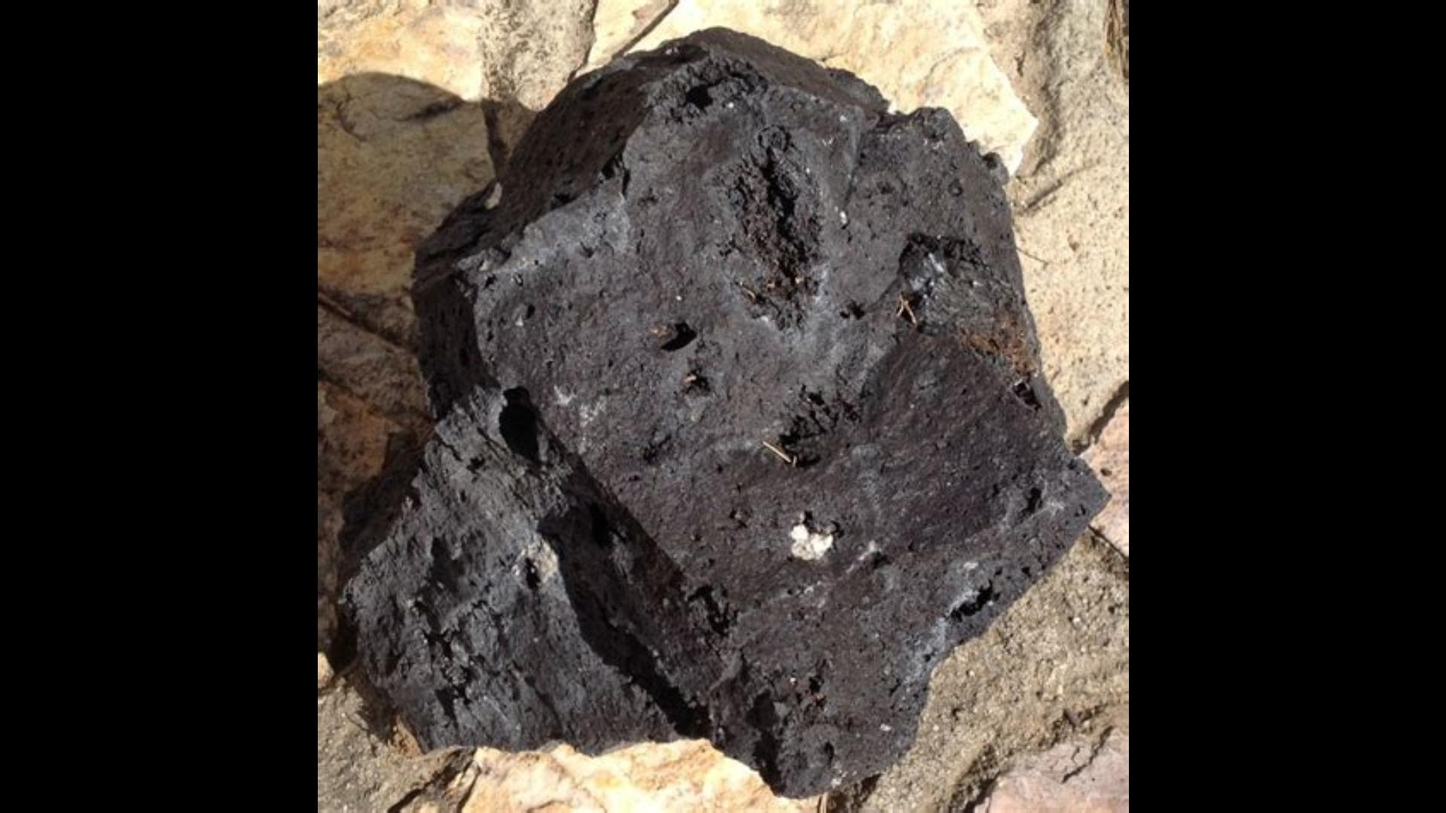rock: (346, 29, 1103, 792)
